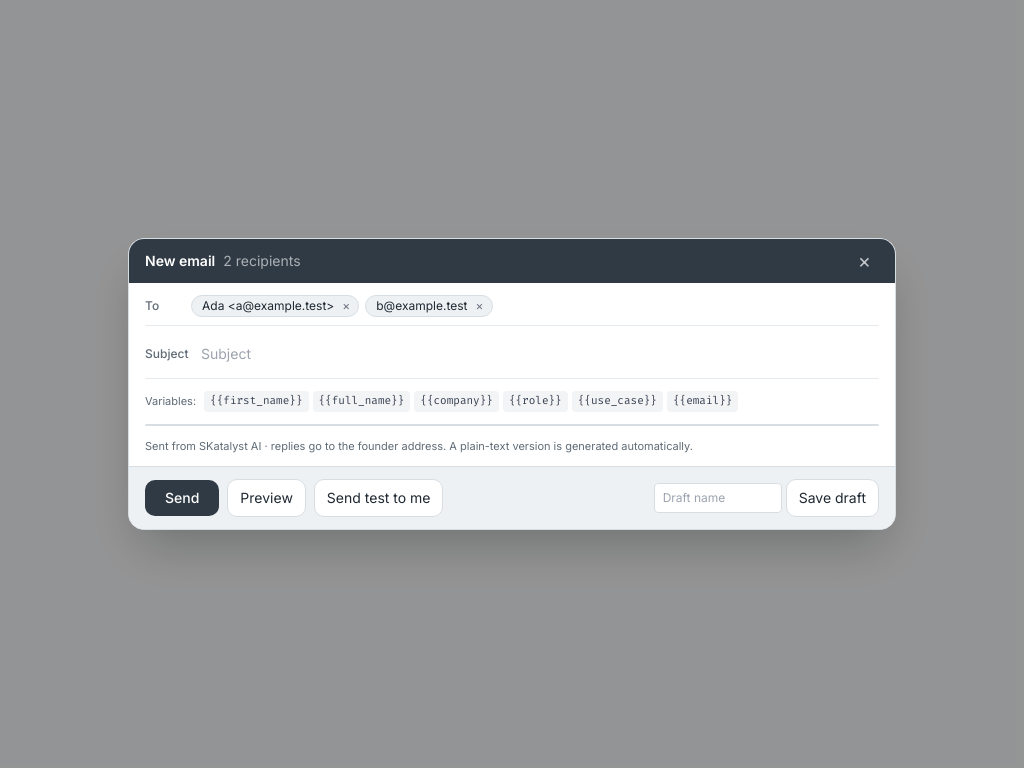
Test: composer shows recipient chips with count and supports removal
Expected: the text "2 recipients" is shown, [223,252,300,269]
Expected: the text "Ada <a@example.test>" is shown, [202,298,334,313]
Click the button named "Remove a@example.test" at (346, 306), box [338,298,354,314]
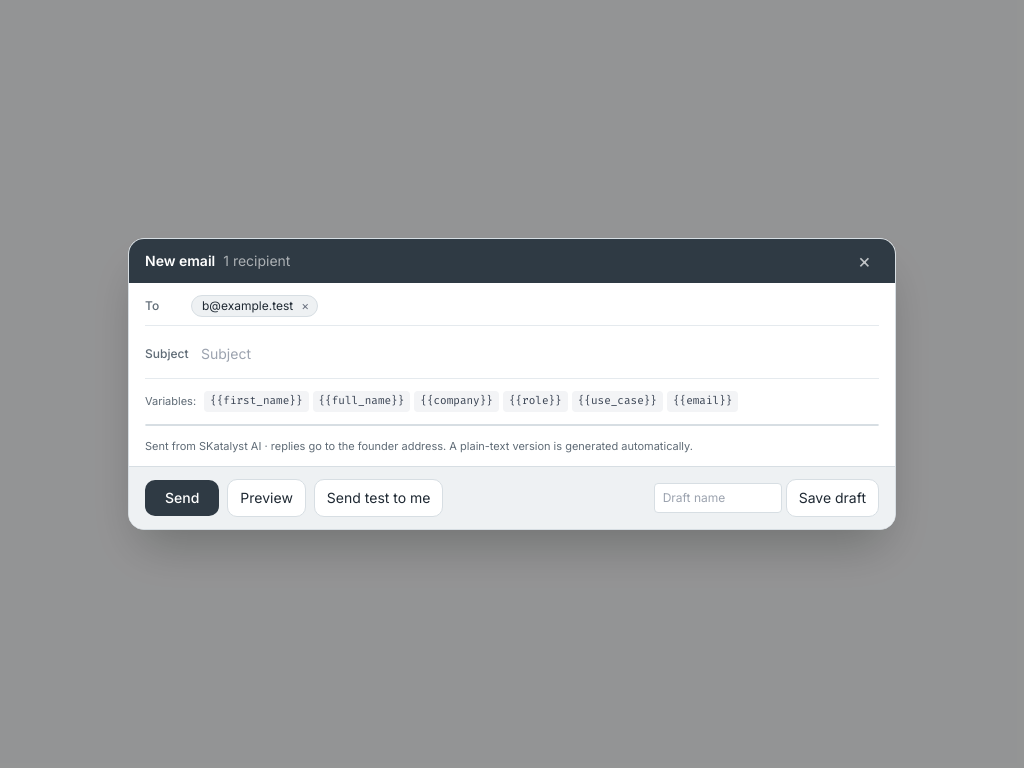
Now the text "1 recipient" is shown, box [223,252,290,269]
Now the text "Ada <a@example.test>" is gone
